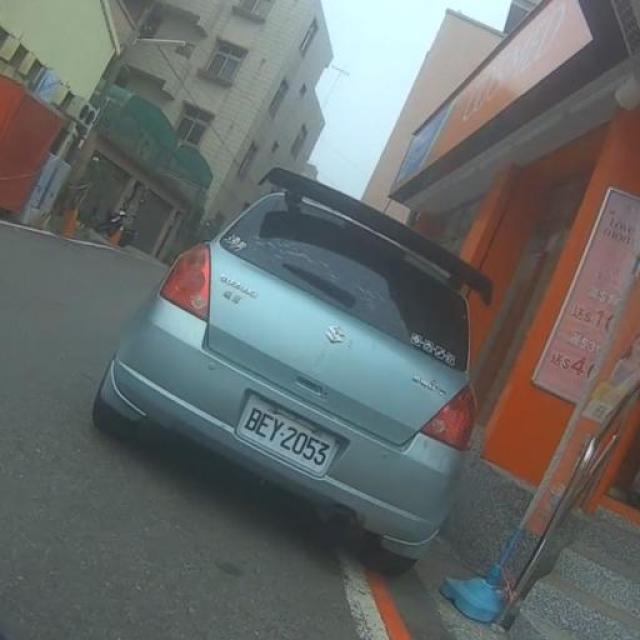illegalparking: (68, 79, 544, 583)
